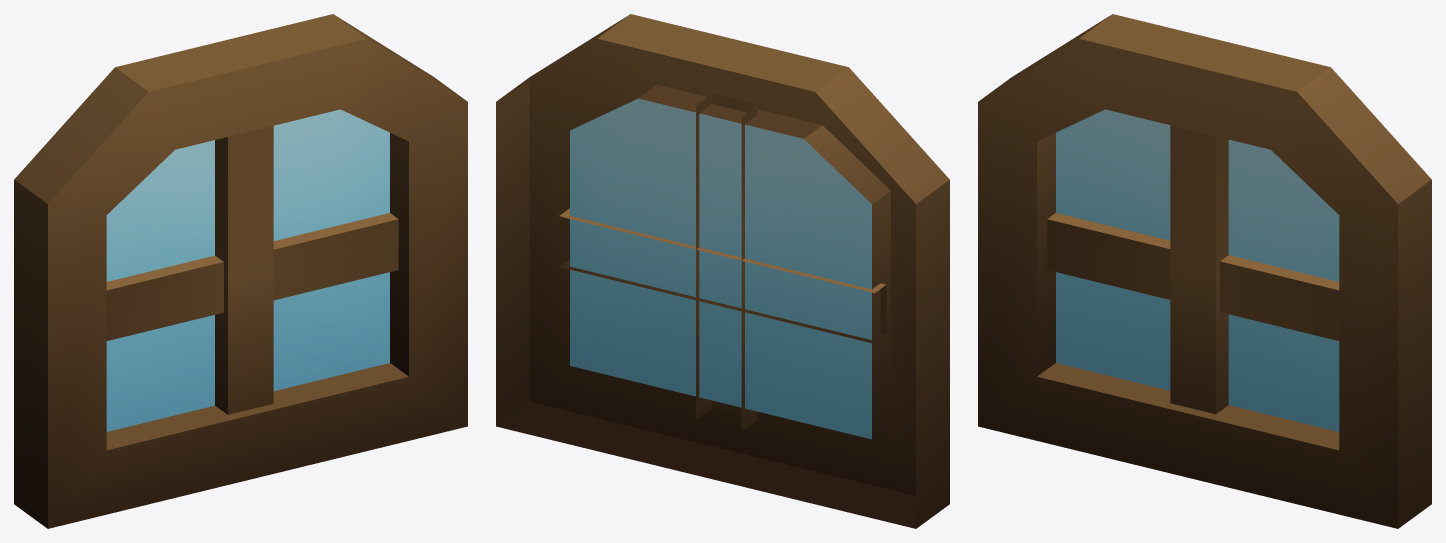
Rendered from Window_05A.fbx.
The picture shows the model from 3 angles, left to right: view 1: azimuth 30°, elevation 25°; view 2: azimuth 150°, elevation 25°; view 3: azimuth 330°, elevation 25°; orthographic projection.
Visible parts, largest first — view 1: Window_05A; view 2: Window_05A; view 3: Window_05A.
Part boxes in pixels (bbox=[...]): Window_05A: bbox=[14, 14, 467, 528]; Window_05A: bbox=[496, 14, 949, 528]; Window_05A: bbox=[978, 14, 1431, 528].
Bounding box in the file's own units: 148 × 139 × 20.54.
2 materials, 2 textured.
